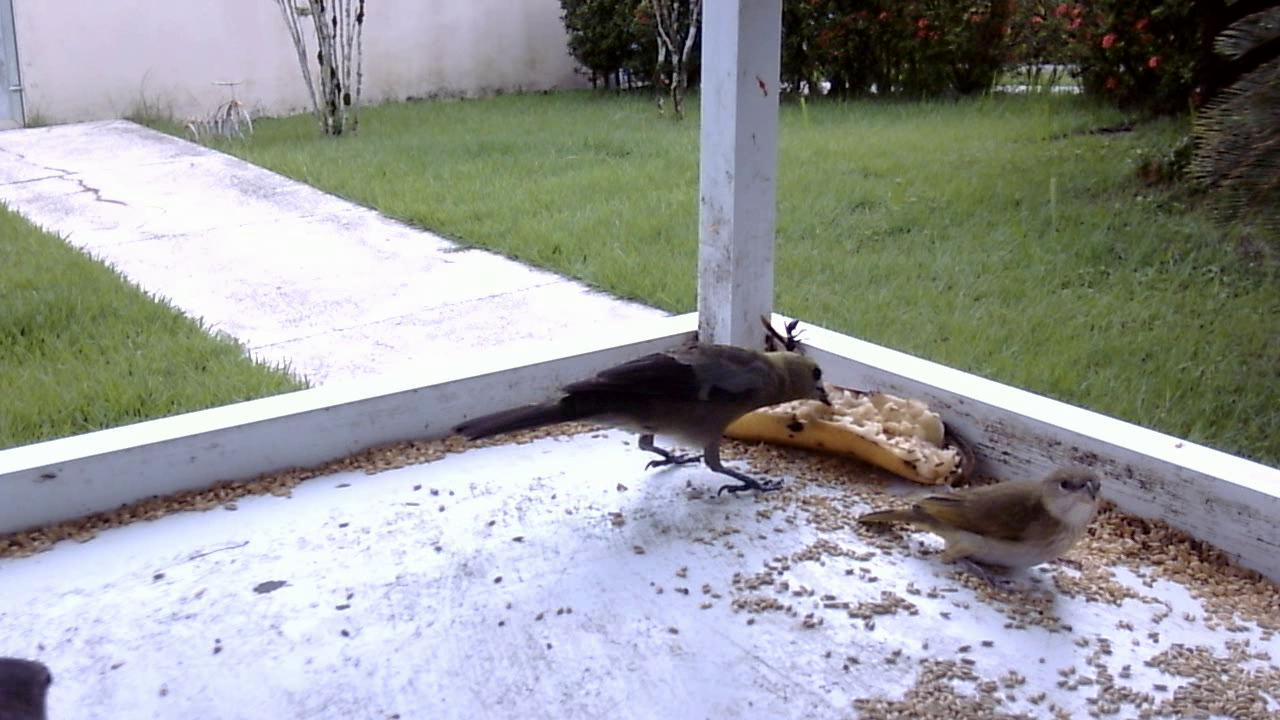canario_do_amazonas: (851, 458, 1109, 593)
sanhaco_do_coqueiro: (460, 326, 830, 505)
